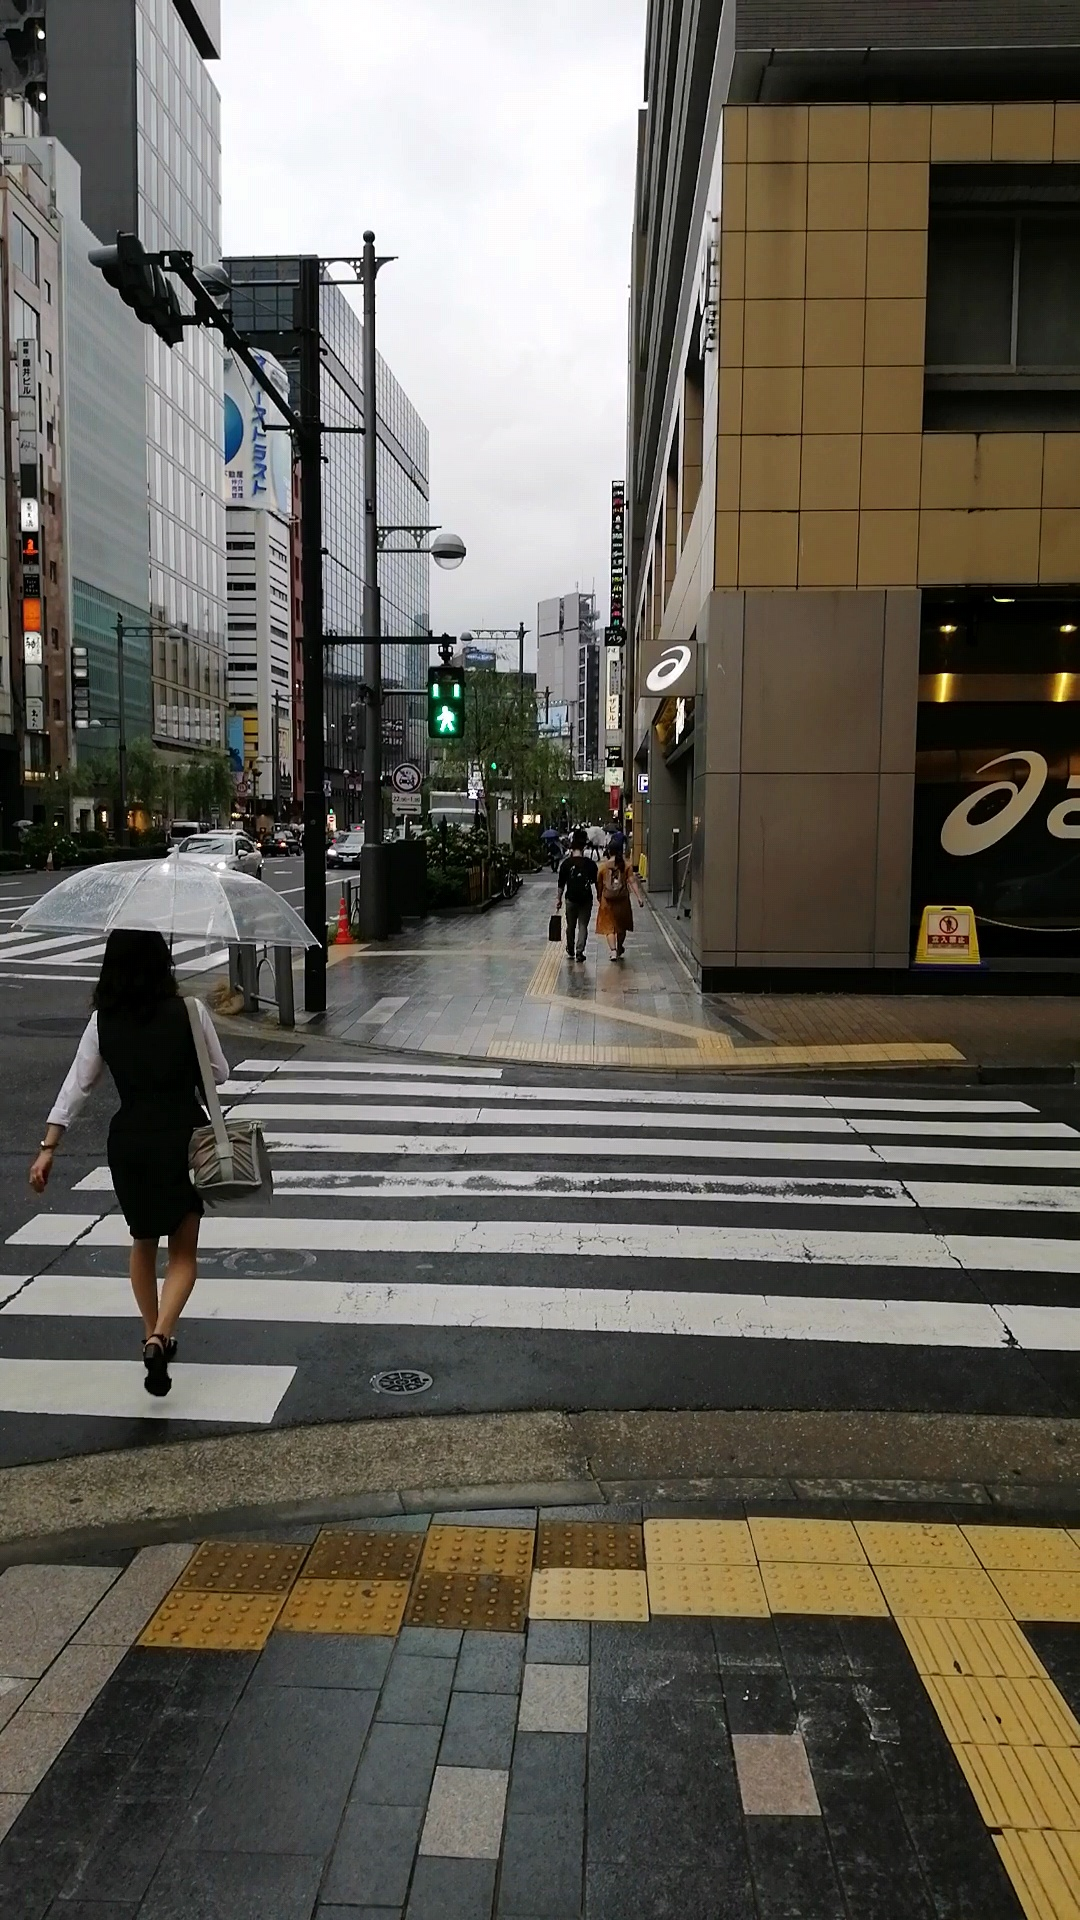green: (425, 666, 465, 738)
